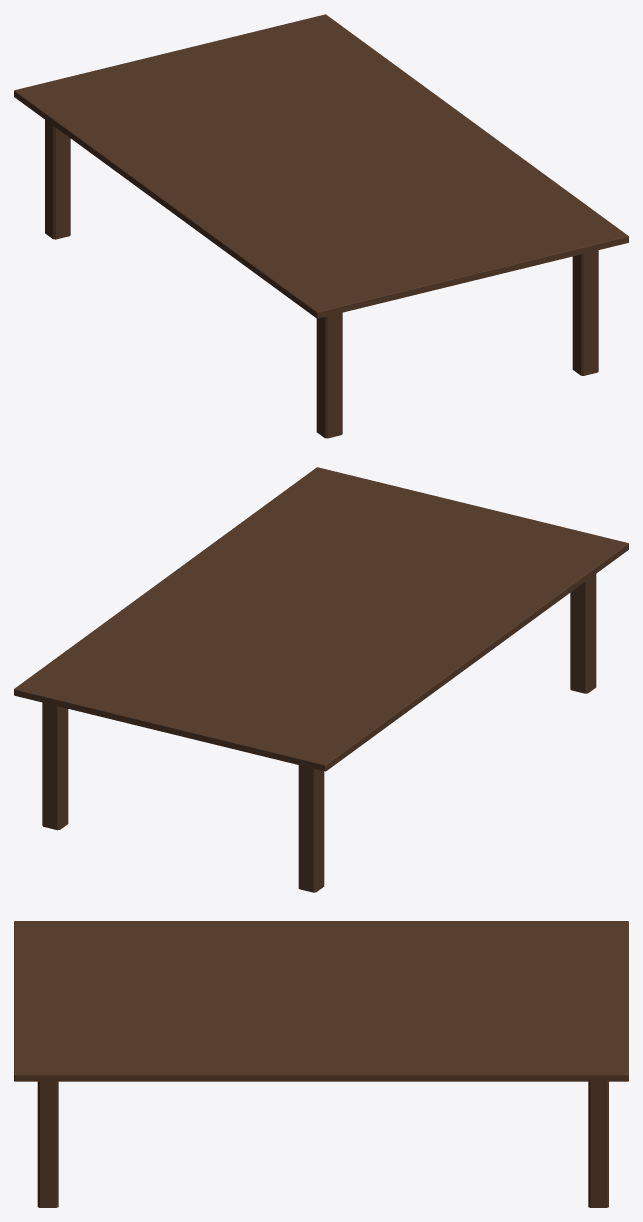
The model's file is table.fbx.
3 views of the same model, one above another, from view 1: azimuth 30°, elevation 25°; view 2: azimuth 150°, elevation 25°; view 3: azimuth 270°, elevation 25° (orthographic).
Visible parts, largest first — view 1: pCube7; view 2: pCube7; view 3: pCube7.
Boxes of the visible parts, x1,y1,x2,y2 form: pCube7: [14, 14, 628, 438]; pCube7: [14, 467, 628, 892]; pCube7: [14, 921, 628, 1207].
Bounding box in the file's own units: 1.52 × 0.6518 × 2.56.
